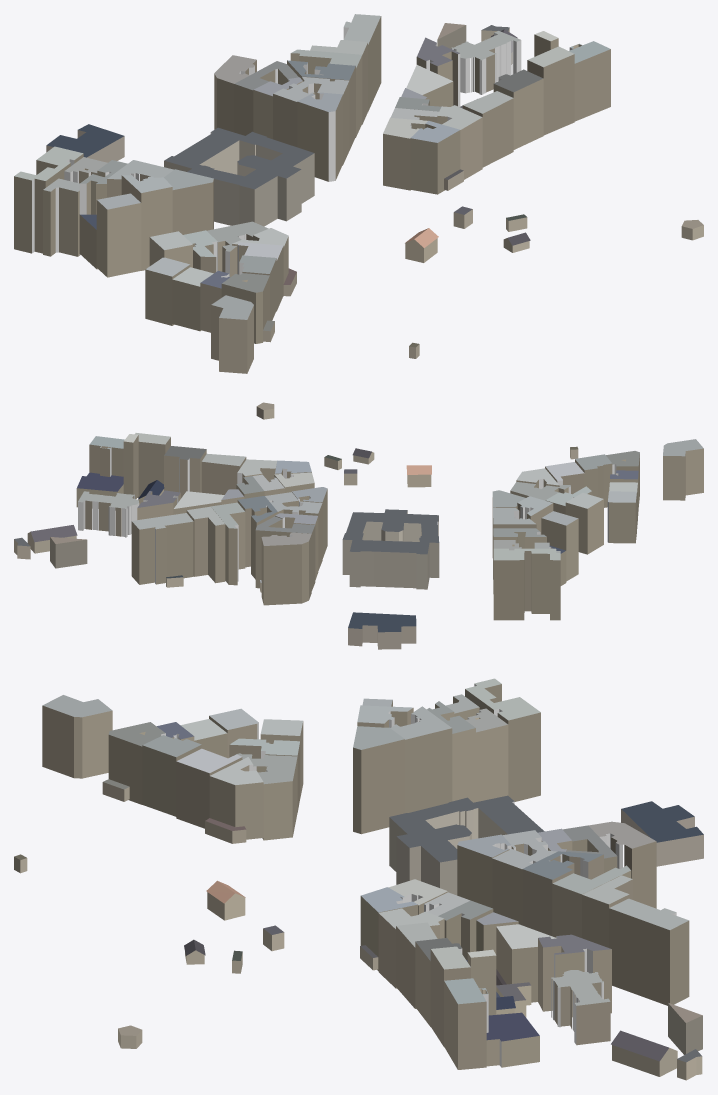
3 views of the same model, one above another, from view 1: azimuth 30°, elevation 25°; view 2: azimuth 150°, elevation 25°; view 3: azimuth 270°, elevation 25° (orthographic). The views are drawn at different scales.
Visible parts, largest first — view 1: tuile; view 2: tuile; view 3: tuile.
Part boxes in pixels (bbox=[...]): tuile: bbox=[14, 14, 703, 373]; tuile: bbox=[14, 402, 703, 649]; tuile: bbox=[14, 678, 703, 1080].
Bounding box in the file's own units: 270 × 41 × 244.
